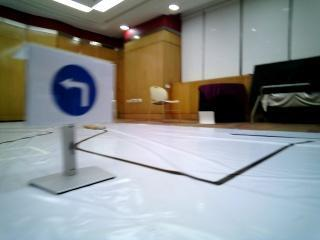left: (33, 55, 109, 122)
